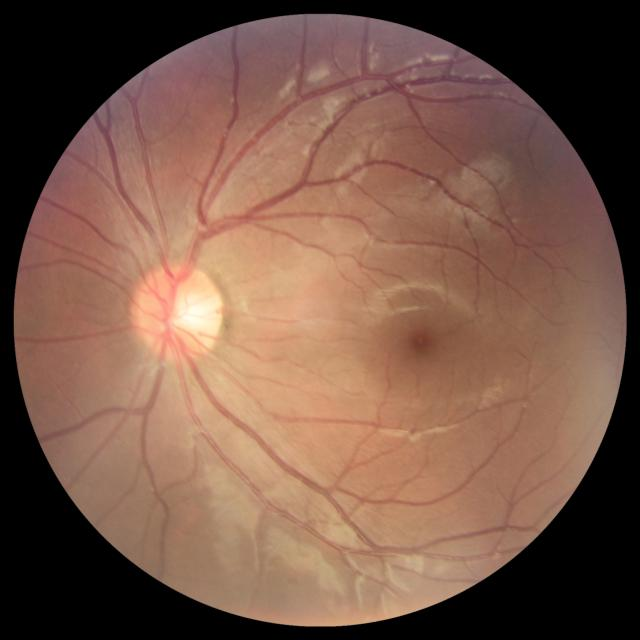OC: (163, 289, 206, 334)
OD: (132, 264, 222, 358)
